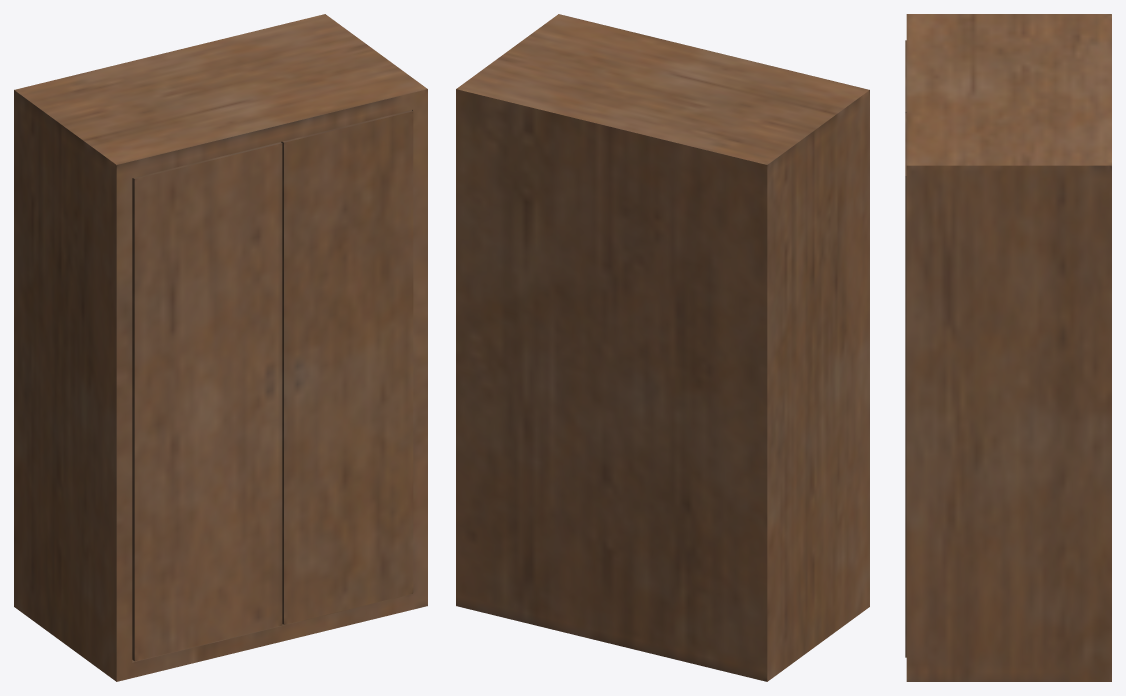
The model's file is wardrobe_2.fbx.
The picture shows the model from 3 angles, left to right: view 1: azimuth 30°, elevation 25°; view 2: azimuth 150°, elevation 25°; view 3: azimuth 270°, elevation 25°; orthographic projection.
Visible parts, largest first — view 1: wardrobe_2; view 2: wardrobe_2; view 3: wardrobe_2.
Boxes of the visible parts, <box> form: wardrobe_2: <box>14,14,427,681</box>; wardrobe_2: <box>456,14,869,681</box>; wardrobe_2: <box>905,14,1111,681</box>.
Size of the model in its own units: 1.24 by 1.97 by 0.7397.
